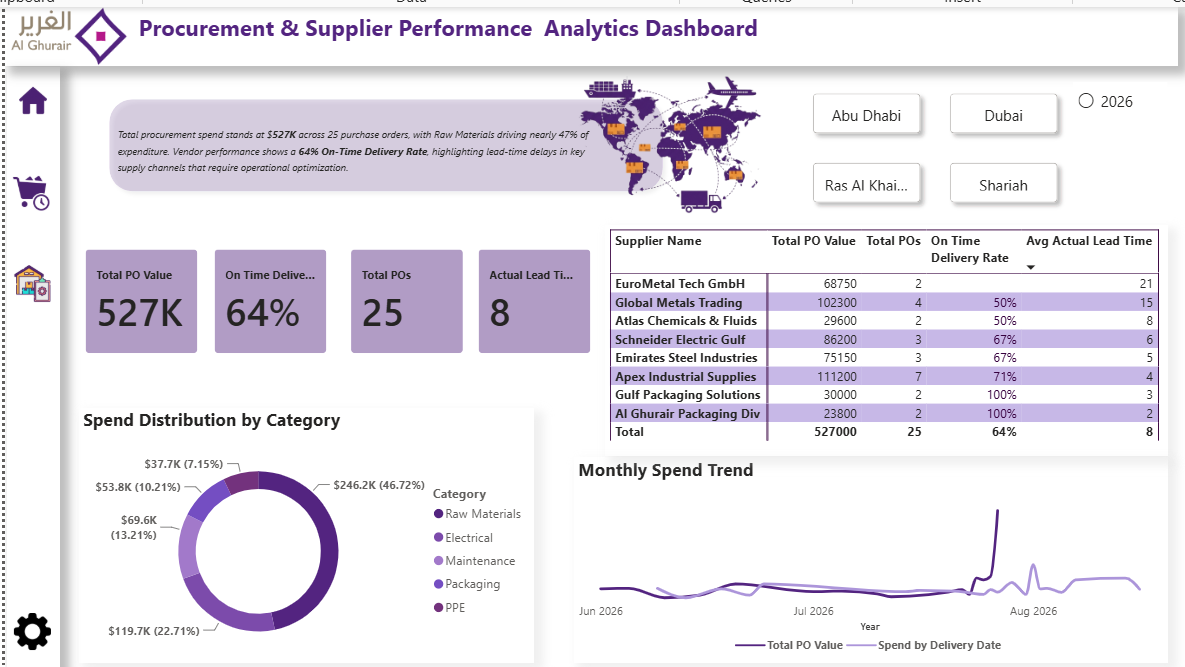

What the dashboard file says about the page in this screenshot:
{"tool":"powerbi","page":{"name":" Procurement & Supplier Performance  Analytics","canvas":[1280,720],"ordinal":1},"visuals":[{"type":"shape","box":[0,0,1266.7,63.3],"z":0},{"type":"shape","box":[2,64,58,656],"z":1000},{"type":"textbox","box":[133.3,0,821.7,43.3],"z":2000},{"type":"image","box":[6.7,0,125,63.3],"z":3000},{"type":"cardVisual","fields":{"Data":["Measure.On Time Delivery Rate"]},"box":[208.3,245,155,146],"z":4000},{"type":"lineChart","title":" Monthly Spend Trend","fields":{"Y":["Measure.Total PO Value","Measure.Spend by Delivery Date"],"Category":["Dim_Calendar.Date.Variation.Date Hierarchy.Year","Dim_Calendar.Date.Variation.Date Hierarchy.Quarter","Dim_Calendar.Date.Variation.Date Hierarchy.Month","Dim_Calendar.Date.Variation.Date Hierarchy.Day"]},"box":[613.3,485,641.7,221.7],"z":5000},{"type":"donutChart","title":"Spend Distribution by Category","fields":{"Category":["Dim_Products.Category"],"Y":["Measure.Total PO Value"]},"box":[80,431.7,491.7,275],"z":6000},{"type":"pivotTable","fields":{"Rows":["Dim_Suppliers.SupplierName"],"Values":["Measure.Total PO Value","Measure.Total POs","Measure.On Time Delivery Rate","Measure.Avg Actual Lead Time"]},"box":[647.5,235,607.5,250],"z":7000},{"type":"shape","box":[103.6,90,615.5,117.3],"z":8000},{"type":"cardVisual","fields":{"Data":["Measure.Total PO Value"]},"box":[70,245,155,146.7],"z":9000},{"type":"listSlicer","fields":{"Values":["Dim_Calendar.Year"]},"box":[1153.3,81.7,101.7,43.3],"z":10000},{"type":"cardVisual","fields":{"Data":["Measure.Avg Actual Lead Time"]},"box":[493.3,245,155,146],"z":11000},{"type":"cardVisual","fields":{"Data":["Measure.Total POs"]},"box":[356.7,245,155,146],"z":12000},{"type":"image","box":[596.7,28.3,244,240],"z":13000},{"type":"advancedSlicerVisual","fields":{"Values":["Dim_Warehouses.Location"]},"box":[855,76.7,298.3,153.3],"z":14000},{"type":"image","box":[1.7,81.7,56.7,40],"z":15000},{"type":"image","box":[0,180,56,40],"z":16000},{"type":"image","box":[2,278,56,40],"z":17000},{"type":"image","box":[2,654,56,40],"z":18000},{"type":"textbox","box":[117.1,121.4,532.9,78.6],"z":19000},{"type":"actionButton","box":[3.3,276.7,50,41.7],"z":21000},{"type":"actionButton","box":[5,80,50,41.7],"z":22000}]}

Visuals, with their boxes on the page's 1280x720 design canvas (x1, y1, x2, y2). These are canvas units, not pixel positions in the 1185x667 screenshot, which may show the page scaled, cropped or inside an application window:
shape: detection(0, 0, 1267, 63)
shape: detection(2, 64, 60, 720)
textbox: detection(133, 0, 955, 43)
image: detection(7, 0, 132, 63)
cardVisual - Measure.On Time Delivery Rate: detection(208, 245, 363, 391)
" Monthly Spend Trend" lineChart: detection(613, 485, 1255, 707)
"Spend Distribution by Category" donutChart: detection(80, 432, 572, 707)
pivotTable - Dim_Suppliers.SupplierName x Measure.Total PO Value: detection(648, 235, 1255, 485)
shape: detection(104, 90, 719, 207)
cardVisual - Measure.Total PO Value: detection(70, 245, 225, 392)
listSlicer - Dim_Calendar.Year: detection(1153, 82, 1255, 125)
cardVisual - Measure.Avg Actual Lead Time: detection(493, 245, 648, 391)
cardVisual - Measure.Total POs: detection(357, 245, 512, 391)
image: detection(597, 28, 841, 268)
advancedSlicerVisual - Dim_Warehouses.Location: detection(855, 77, 1153, 230)
image: detection(2, 82, 58, 122)
image: detection(0, 180, 56, 220)
image: detection(2, 278, 58, 318)
image: detection(2, 654, 58, 694)
textbox: detection(117, 121, 650, 200)
actionButton: detection(3, 277, 53, 318)
actionButton: detection(5, 80, 55, 122)
